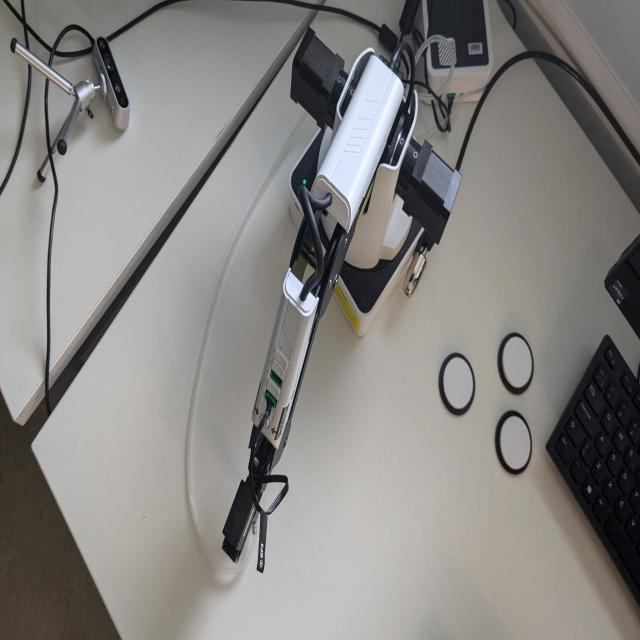Robot-end-effector-HF8z: (216, 474, 264, 568)
